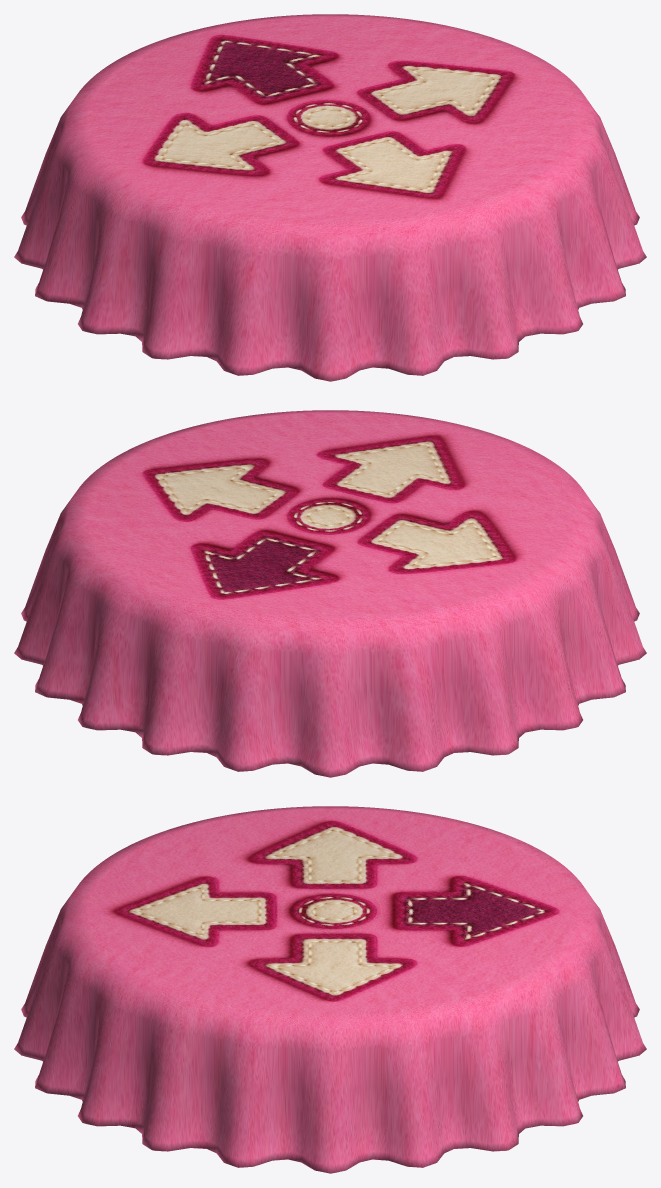
The model's file is kapsel.glb.
3 renders of one model, top to bottom at view 1: azimuth 30°, elevation 25°; view 2: azimuth 150°, elevation 25°; view 3: azimuth 270°, elevation 25°, orthographic.
Visible parts, largest first — view 1: Kapsel; view 2: Kapsel; view 3: Kapsel.
Part boxes in pixels (box(x1,y1,x2,y2)): Kapsel: box(14, 14, 646, 381); Kapsel: box(14, 410, 646, 777); Kapsel: box(14, 806, 646, 1173).
Bounding box in the file's own units: 31.32 × 7.12 × 31.41.
Materials: 2 (2 with a texture image).
